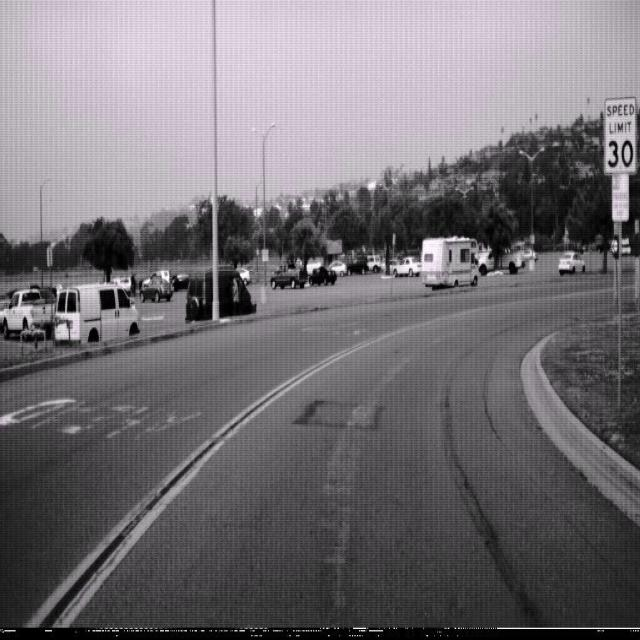speedLimit30: (602, 94, 638, 176)
